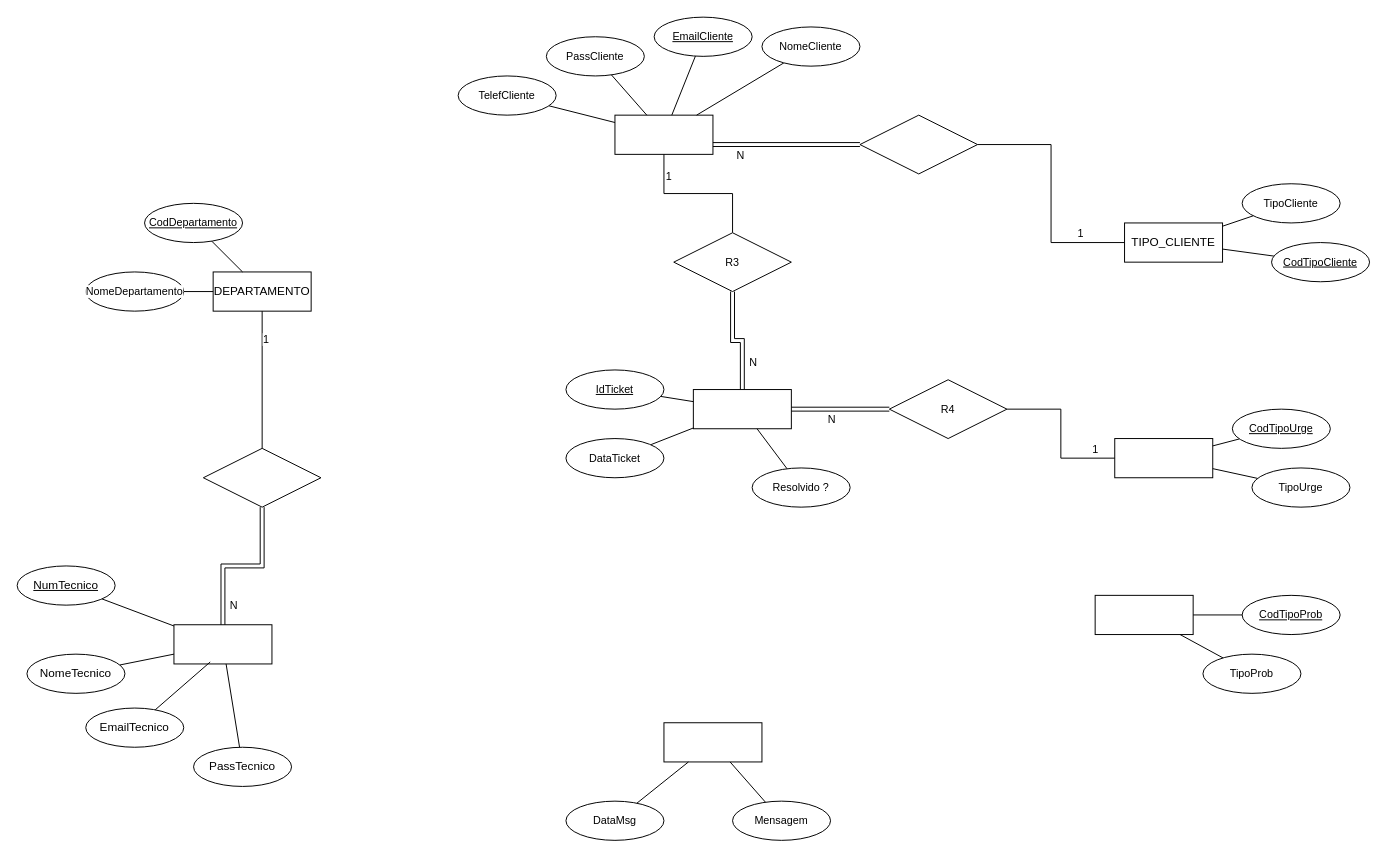
This 1387x858 diagram has some shape labels left out. Each missing label, with the box of its shape:
CLIENTE: (614, 114, 713, 154)
MSAS: (663, 722, 762, 762)
R1: (202, 447, 321, 507)
R2: (859, 114, 978, 174)
TECNICO: (173, 624, 272, 664)
TICKET: (692, 389, 791, 429)
TIPO_PROBLEMA: (1094, 594, 1193, 635)
TIPO_URGENCIA: (1114, 438, 1213, 478)
